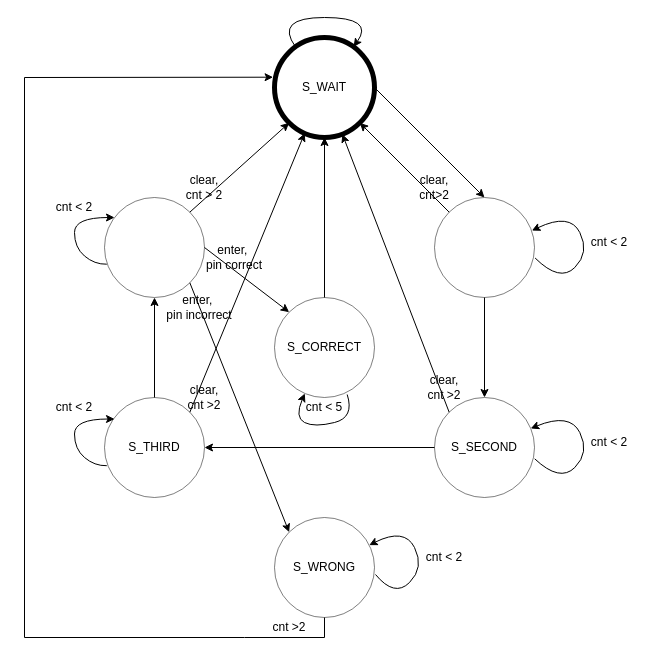
This 647x656 diagram has some shape labels left out. Each missing label, with the box of its shape:
S_FIRST: (434, 196, 534, 298)
S_FORTH: (104, 196, 204, 298)
